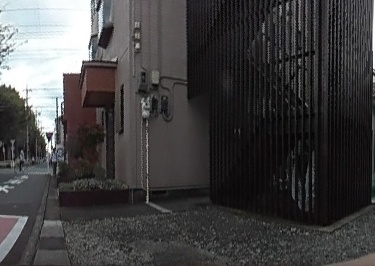person: (49, 146, 58, 174), (17, 145, 25, 174)
